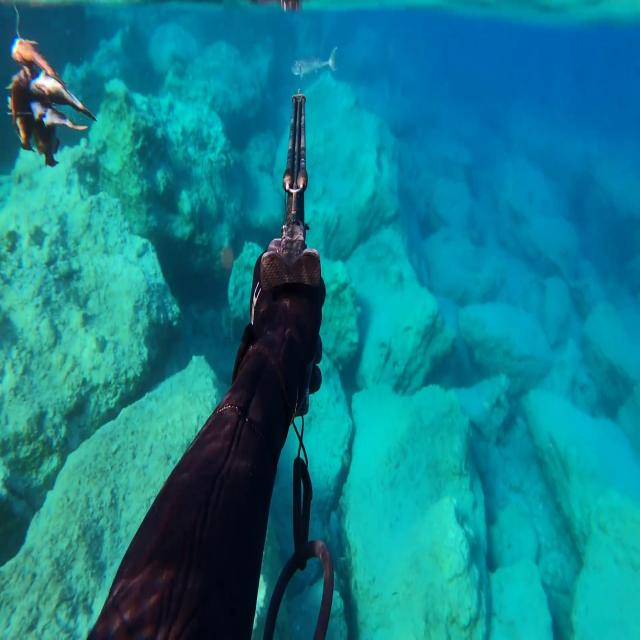Balon Baligi: (292, 47, 338, 81)
